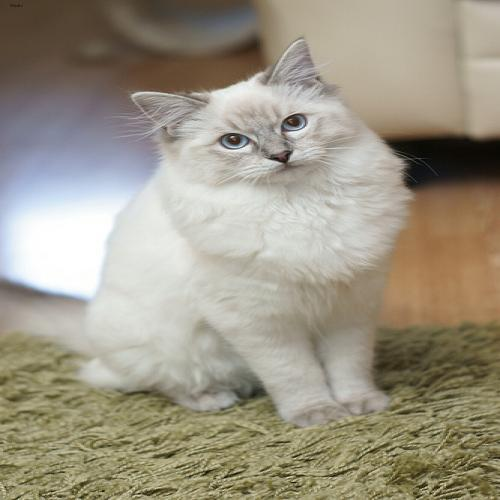ragdoll: (114, 34, 381, 211)
